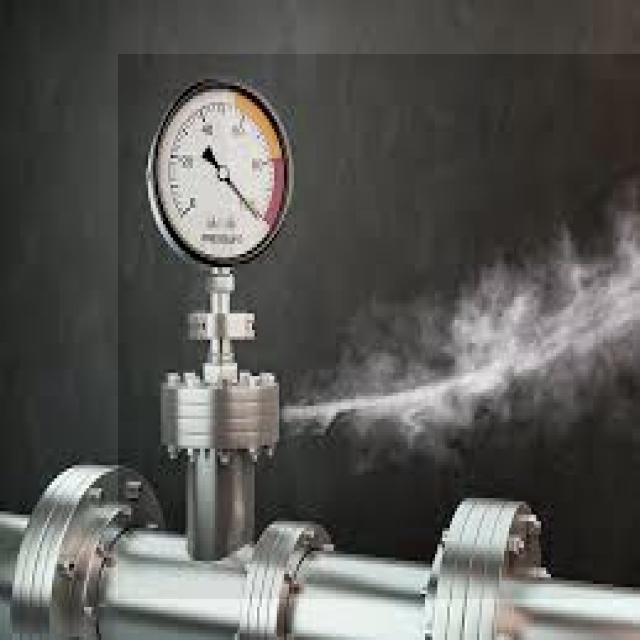corrosion: (111, 57, 640, 544)
